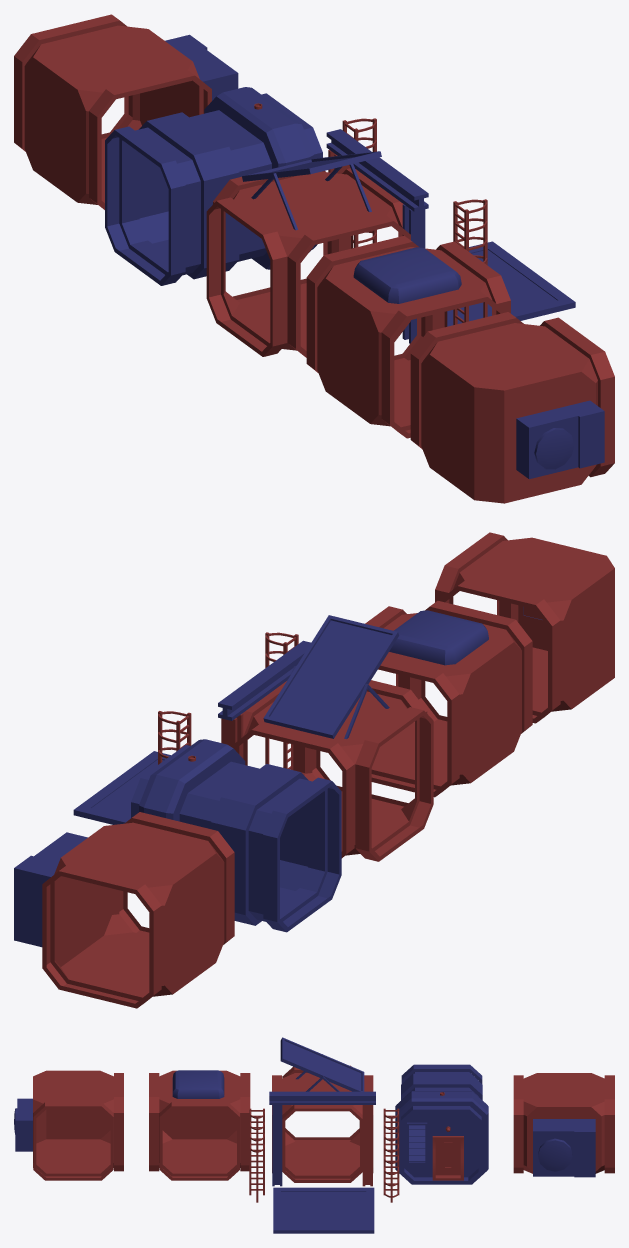
The model's file is 管道组.fbx.
The picture shows the model from 3 angles, top to bottom: view 1: azimuth 30°, elevation 25°; view 2: azimuth 150°, elevation 25°; view 3: azimuth 270°, elevation 25°; orthographic projection. The views are drawn at different scales.
Visible parts, largest first — view 1: CornerCell, EndCapCell, Line Cell, CrossCell, TCell, small ac, skylight, floor, horizontal, solarpanel, large ac, ladder in (+2 smaller); view 2: Line Cell, EndCapCell, CornerCell, TCell, CrossCell, solarpanel, skylight, large ac, floor, horizontal, ladder, ladder in; view 3: CornerCell, TCell, EndCapCell, Line Cell, CrossCell, floor, large ac, solarpanel, horizontal, skylight, door, ladder (+5 smaller).
Boxes of the visible parts, bbox=[...] form: CornerCell: bbox=[410, 312, 614, 503]; EndCapCell: bbox=[105, 87, 322, 285]; Line Cell: bbox=[14, 14, 211, 209]; CrossCell: bbox=[206, 168, 410, 357]; TCell: bbox=[306, 235, 510, 438]; small ac: bbox=[516, 400, 604, 479]; skylight: bbox=[353, 247, 461, 303]; floor: bbox=[447, 241, 575, 326]; horizontal: bbox=[326, 129, 428, 211]; solarpanel: bbox=[242, 151, 381, 230]; large ac: bbox=[165, 34, 238, 100]; ladder in: bbox=[453, 199, 487, 324]; Line Cell: bbox=[42, 812, 234, 1008]; EndCapCell: bbox=[131, 739, 341, 932]; CornerCell: bbox=[435, 532, 614, 723]; TCell: bbox=[365, 601, 532, 797]; CrossCell: bbox=[235, 680, 433, 861]; solarpanel: bbox=[263, 615, 399, 739]; skylight: bbox=[389, 610, 488, 665]; large ac: bbox=[14, 832, 87, 947]; floor: bbox=[73, 751, 170, 824]; horizontal: bbox=[218, 640, 310, 720]; ladder: bbox=[158, 711, 191, 764]; ladder in: bbox=[265, 632, 298, 769]; CornerCell: bbox=[33, 1070, 123, 1180]; TCell: bbox=[149, 1070, 250, 1180]; EndCapCell: bbox=[395, 1064, 488, 1184]; Line Cell: bbox=[513, 1073, 614, 1173]; CrossCell: bbox=[272, 1065, 373, 1182]; floor: bbox=[273, 1187, 374, 1233]; large ac: bbox=[533, 1119, 595, 1177]; solarpanel: bbox=[280, 1037, 364, 1091]; horizontal: bbox=[269, 1091, 375, 1104]; skylight: bbox=[172, 1070, 224, 1098]; door: bbox=[432, 1136, 463, 1180]; ladder: bbox=[383, 1108, 399, 1202].
Size of the model in its own units: 169 by 107 by 485.
